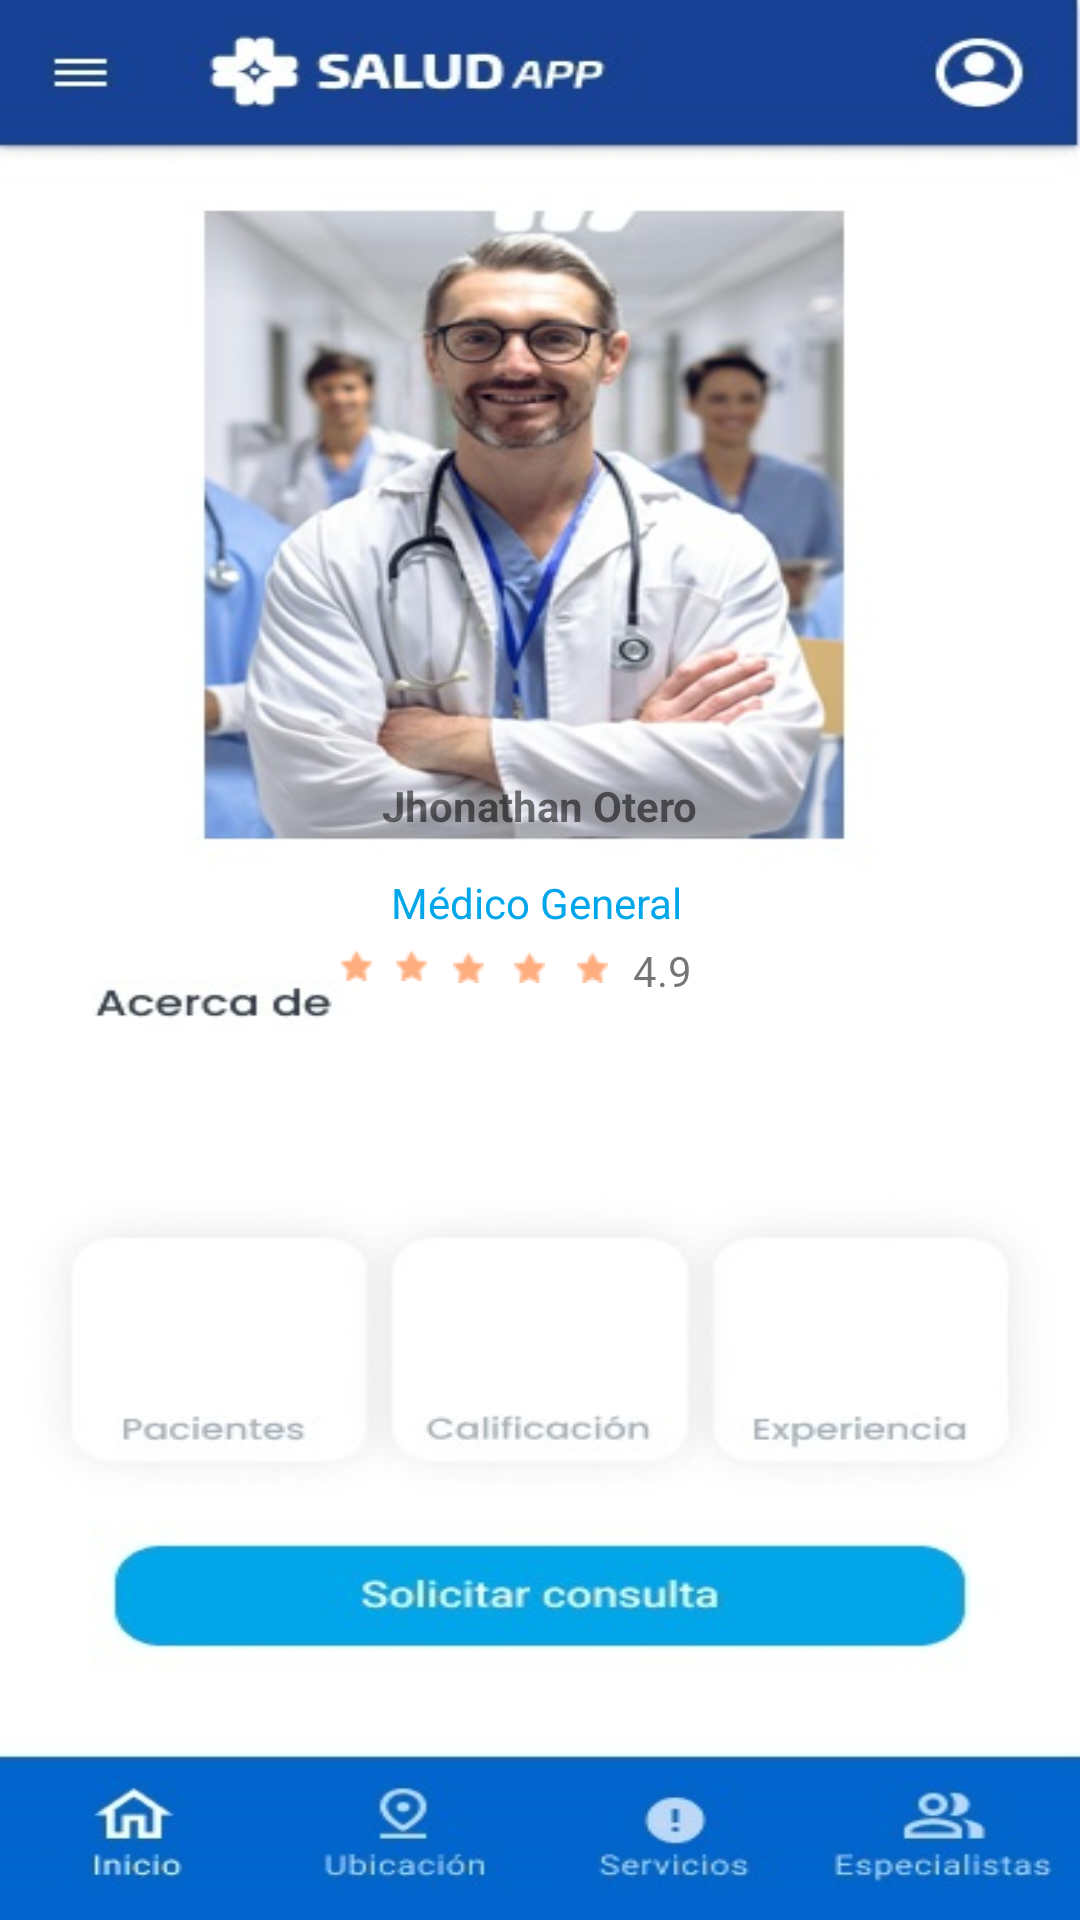

Named icons in this screenshot (1080×1920) and their centers, (x,y):
estrella: (356,965), (411,965), (468,967), (529,967), (592,967)
